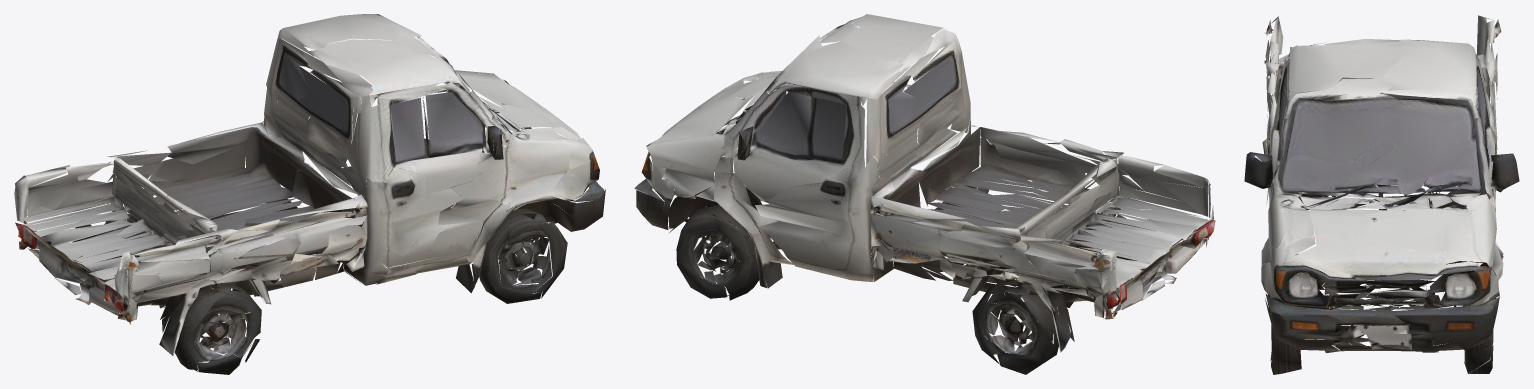
The model's file is kei_truck.glb.
3 views of the same model, side by side, from view 1: azimuth 30°, elevation 25°; view 2: azimuth 150°, elevation 25°; view 3: azimuth 270°, elevation 25° (orthographic). The views are drawn at different scales.
Parts seen in each view (by area): view 1: tripo_node_298b624e-92a7-48fd-aa5e-ad890f1eb525; view 2: tripo_node_298b624e-92a7-48fd-aa5e-ad890f1eb525; view 3: tripo_node_298b624e-92a7-48fd-aa5e-ad890f1eb525.
Part boxes in pixels (left/top/right/bottom): tripo_node_298b624e-92a7-48fd-aa5e-ad890f1eb525: left=14, top=14, right=605, bottom=374; tripo_node_298b624e-92a7-48fd-aa5e-ad890f1eb525: left=634, top=14, right=1215, bottom=374; tripo_node_298b624e-92a7-48fd-aa5e-ad890f1eb525: left=1244, top=15, right=1519, bottom=374.
Bounding box in the file's own units: 3.78 × 1.81 × 1.76.
1 material, 1 textured.
